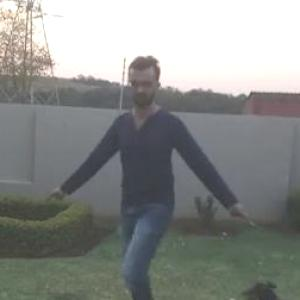land: (66, 63, 230, 299)
